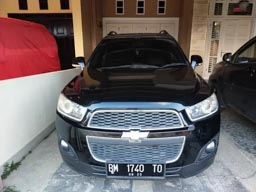plat: (108, 162, 164, 173)
